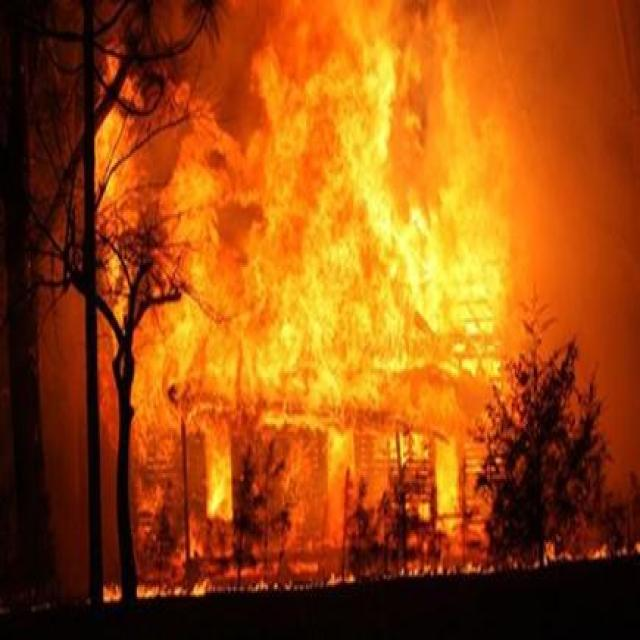fire: (92, 0, 538, 572)
